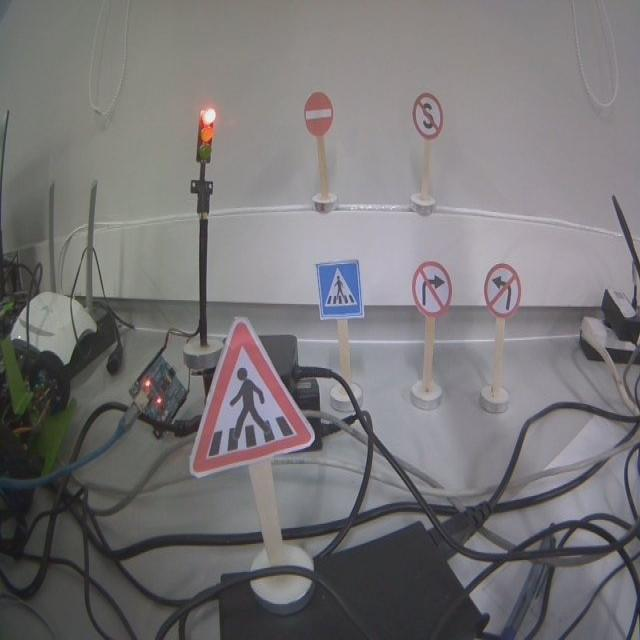Dilarang Belok Kanan: (413, 261, 452, 316)
Dilarang Belok Kiri: (484, 264, 521, 316)
Dilarang Masuk: (304, 92, 333, 136)
Lampu Merah: (196, 106, 216, 162)
Rambu Berhenti: (412, 92, 442, 137)
Rambu Penyebrangan: (188, 317, 314, 476), (315, 259, 363, 320)
